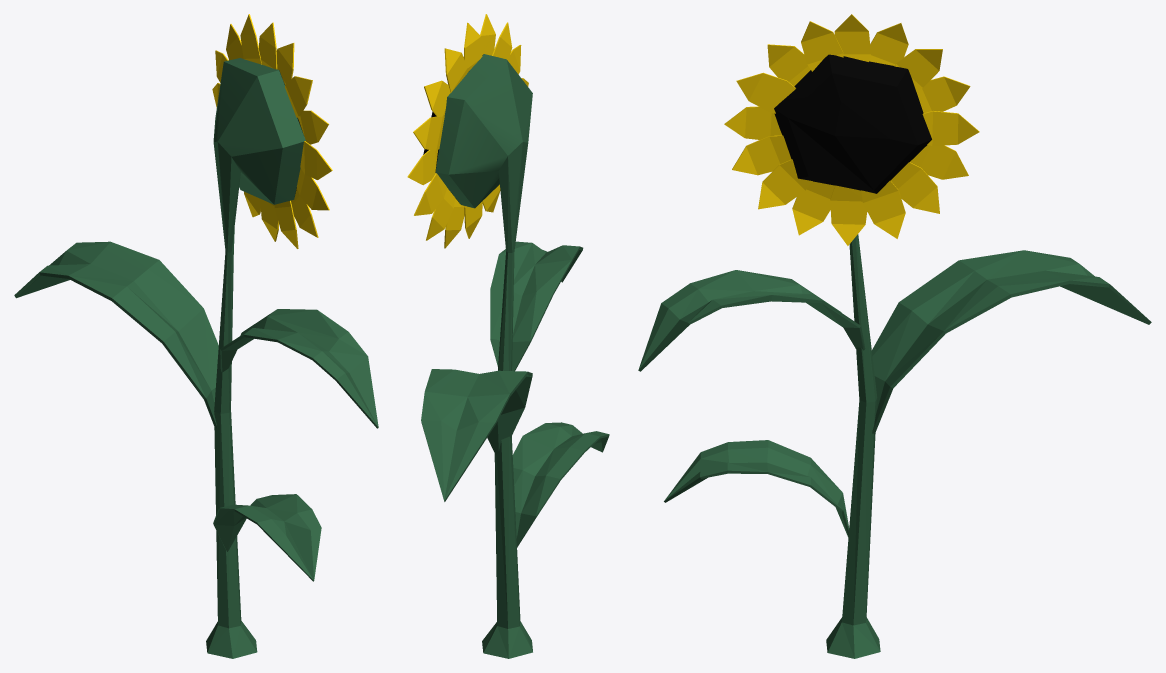
File: mod_Plant_Tournesol.fbx
3 views of the same model, side by side, from view 1: azimuth 30°, elevation 25°; view 2: azimuth 150°, elevation 25°; view 3: azimuth 270°, elevation 25° (orthographic). The views are drawn at different scales.
Parts seen in each view (by area): view 1: TigeTournesol, FleurTournesol; view 2: TigeTournesol, FleurTournesol; view 3: FleurTournesol, TigeTournesol.
Boxes of the visible parts, left/top/right/bottom form: TigeTournesol: left=14, top=58, right=378, bottom=658; FleurTournesol: left=212, top=14, right=332, bottom=248; TigeTournesol: left=421, top=54, right=609, bottom=658; FleurTournesol: left=407, top=14, right=528, bottom=248; FleurTournesol: left=724, top=14, right=979, bottom=245; TigeTournesol: left=638, top=234, right=1151, bottom=658.
Bounding box in the file's own units: 39.91 × 154 × 110.
